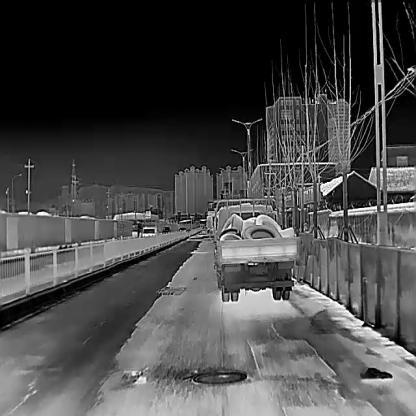car: (214, 203, 300, 302), (142, 226, 157, 239)
